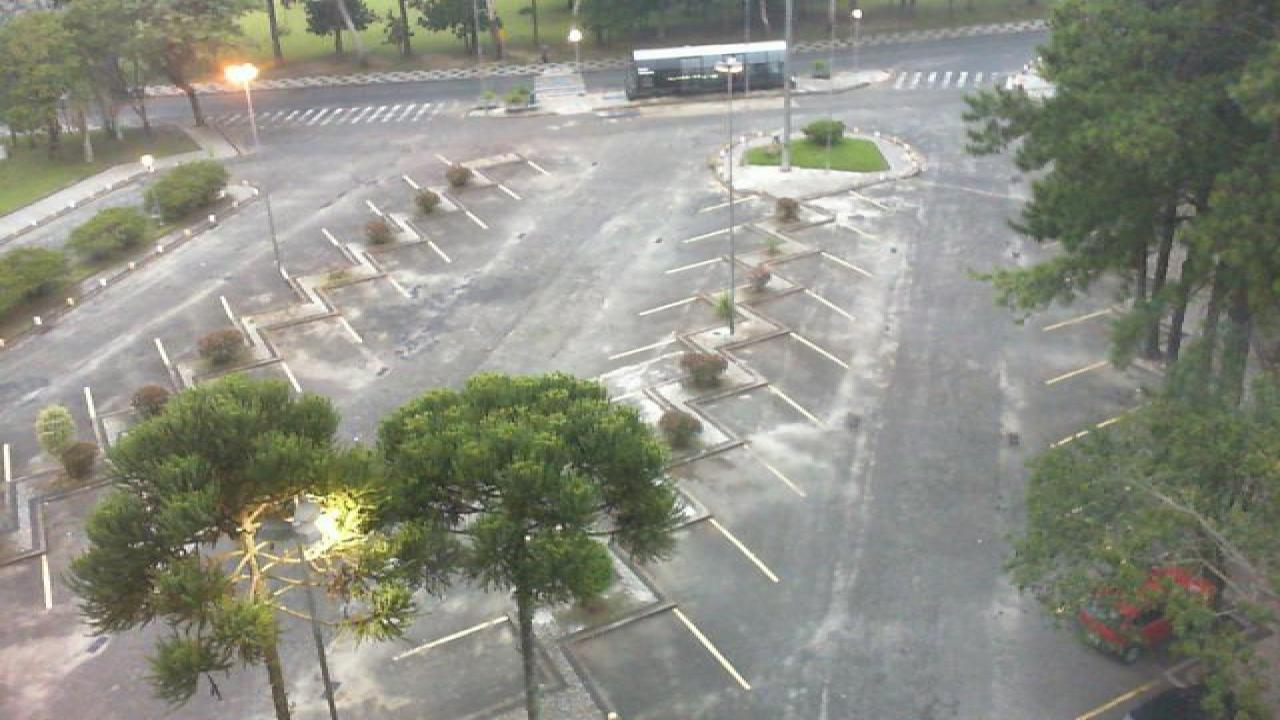Car: (1070, 560, 1228, 665)
